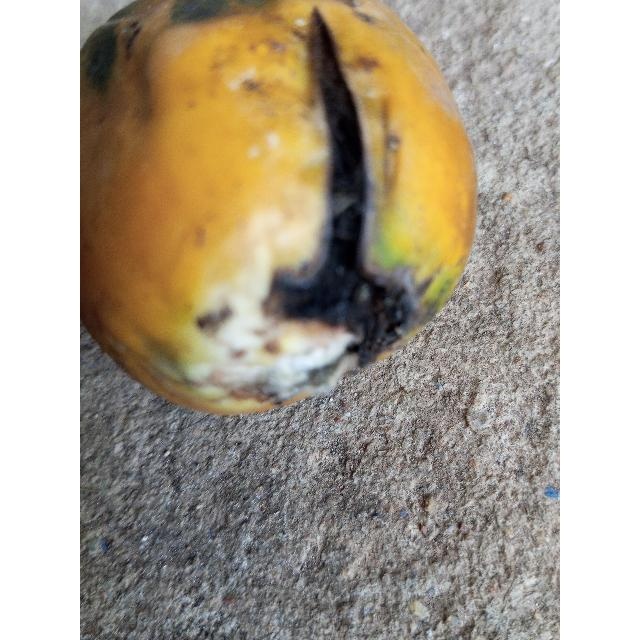damaged: (80, 0, 477, 419)
